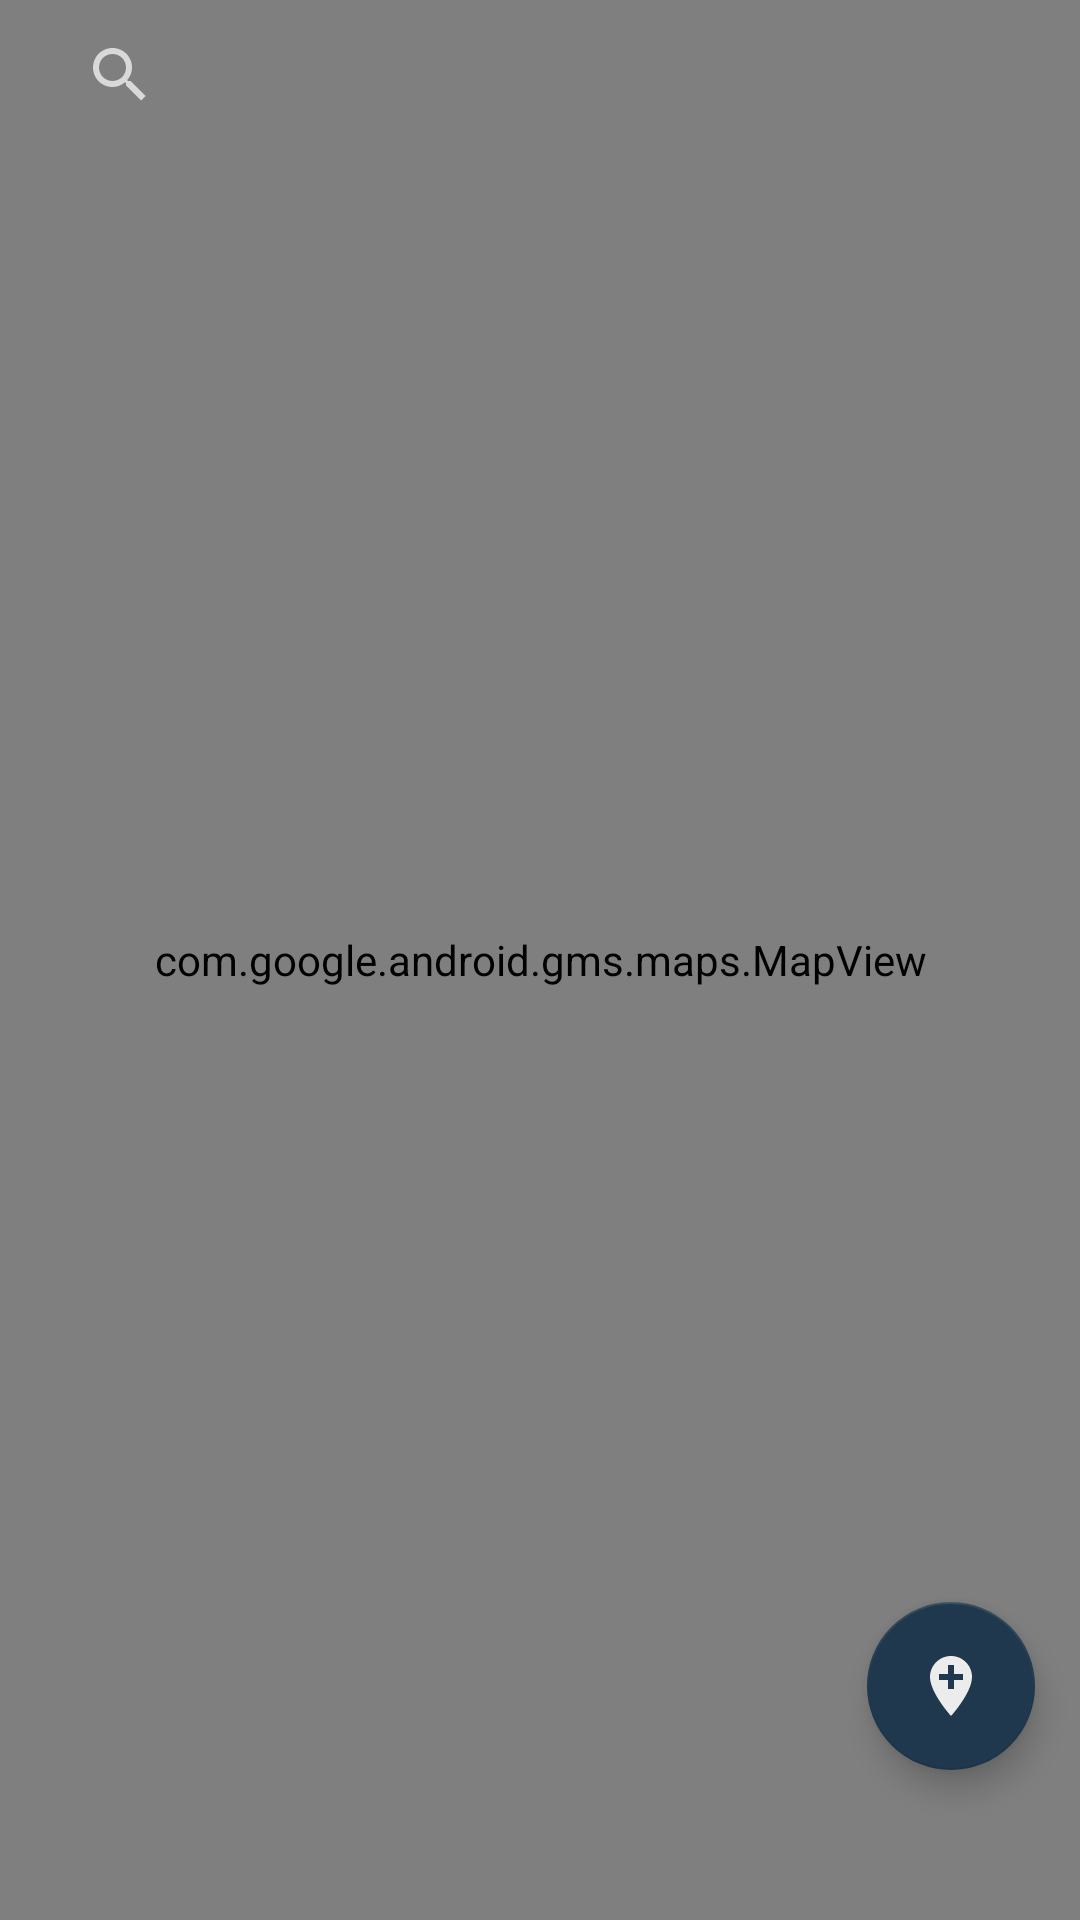

Named icons in this screenshot (1080 x 1920) and their bounding boxes, (x1, y1, x2, y2):
add location: (867, 1602, 1035, 1770)
